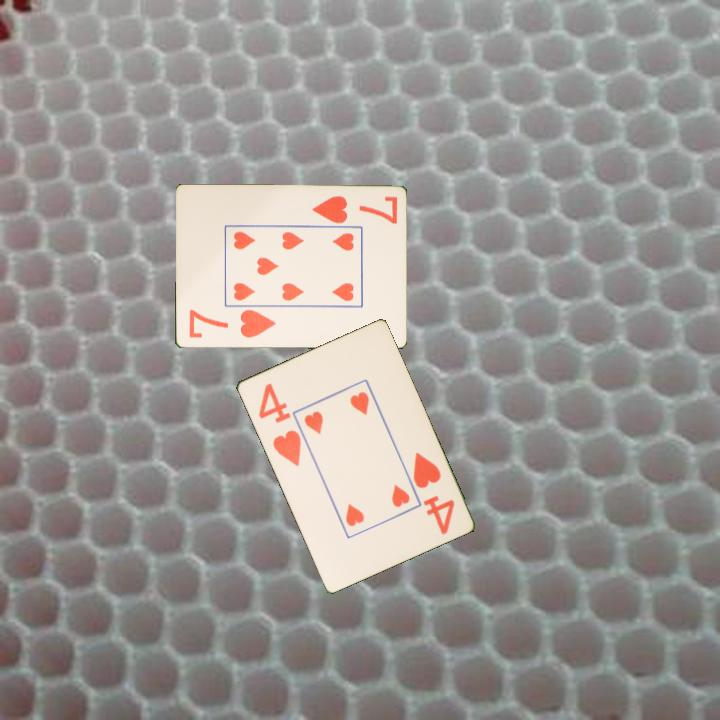4h: (254, 379, 304, 469), (409, 448, 457, 537)
7h: (185, 306, 279, 341), (308, 192, 400, 226)
